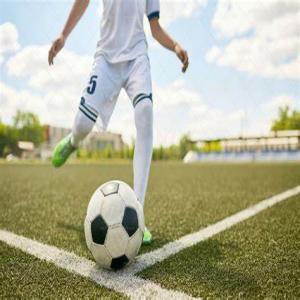Football: (84, 178, 142, 266)
